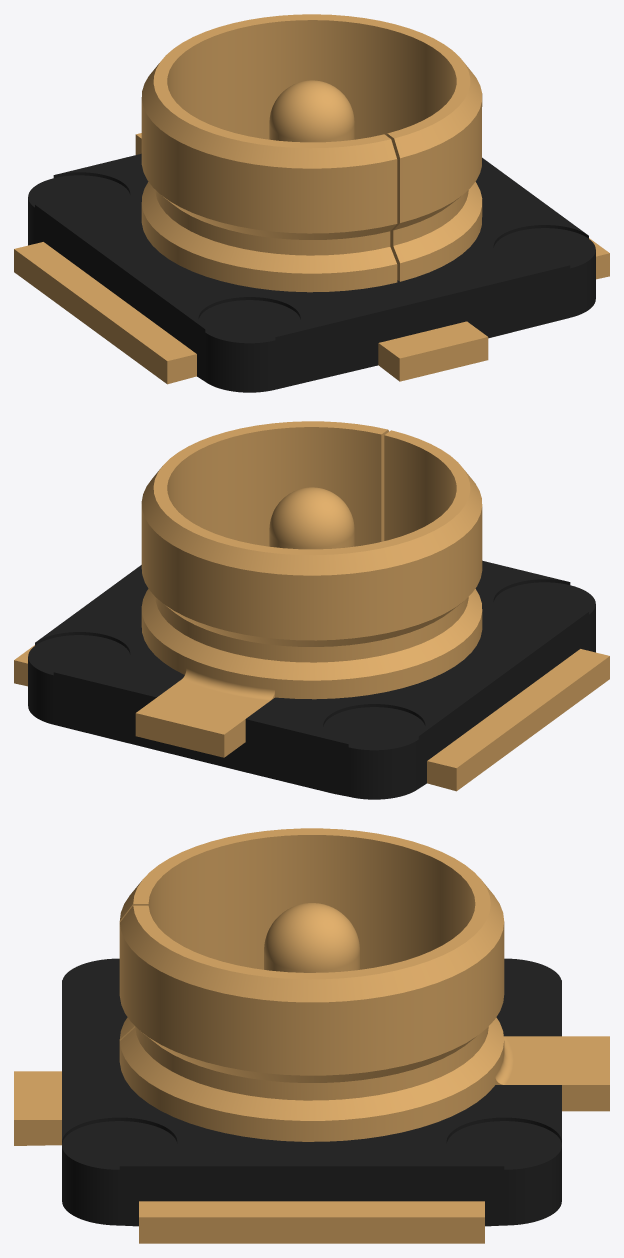
Rendered from ipex_male.glb.
3 views of the same model, one above another, from view 1: azimuth 30°, elevation 25°; view 2: azimuth 150°, elevation 25°; view 3: azimuth 270°, elevation 25° (orthographic). The views are drawn at different scales.
Parts seen in each view (by area): view 1: ipex_male; view 2: ipex_male; view 3: ipex_male.
Part boxes in pixels (left/top/right/bottom): ipex_male: left=14, top=14, right=609, bottom=392; ipex_male: left=14, top=421, right=609, bottom=799; ipex_male: left=14, top=828, right=609, bottom=1243.
Size of the model in its own units: 0.3 by 0.125 by 0.31.
